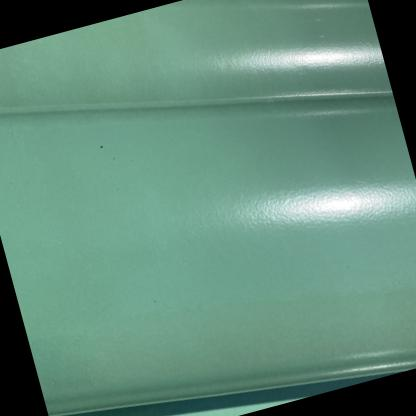clean: (186, 130, 293, 250)
